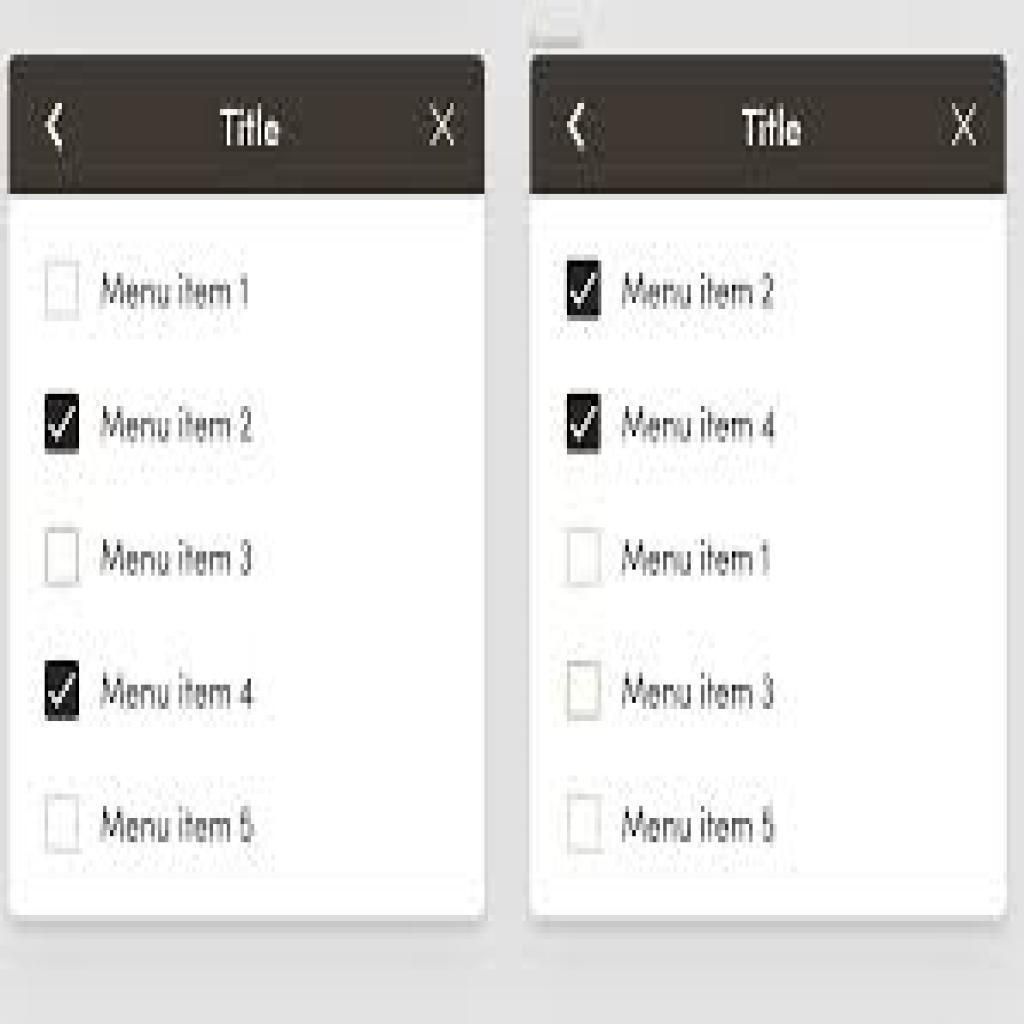checkbox: (42, 391, 85, 460), (43, 528, 85, 594), (565, 391, 606, 458), (566, 258, 605, 328), (44, 659, 84, 723), (566, 660, 605, 724), (45, 258, 81, 326), (566, 529, 606, 589), (42, 794, 83, 852), (568, 795, 606, 857)
icon: (35, 102, 72, 157), (427, 98, 462, 155), (948, 101, 980, 155), (565, 100, 592, 152)
label: (622, 794, 786, 860), (620, 668, 784, 726), (98, 398, 262, 455), (91, 265, 263, 319), (614, 265, 792, 317), (620, 401, 783, 453), (97, 801, 264, 850), (97, 537, 256, 584), (100, 670, 259, 714), (617, 540, 780, 581), (732, 102, 811, 156), (214, 104, 290, 153)
